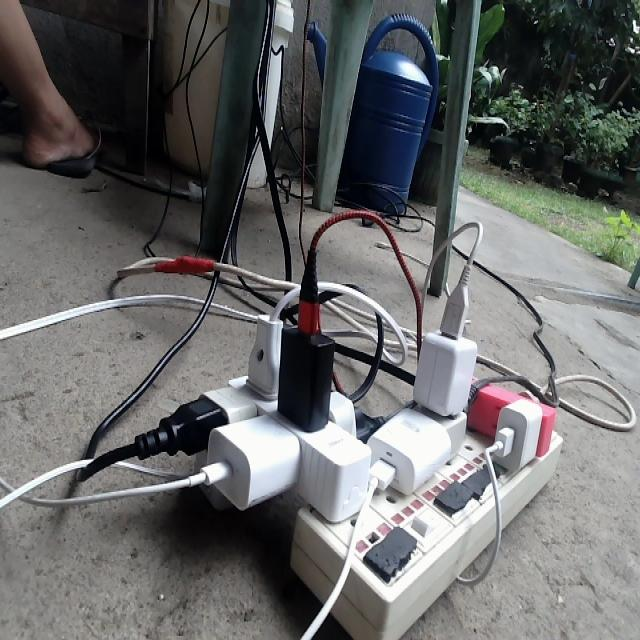-: (137, 244, 560, 637)
